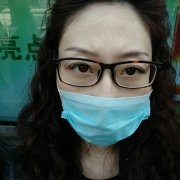Mask: (59, 45, 159, 145)
